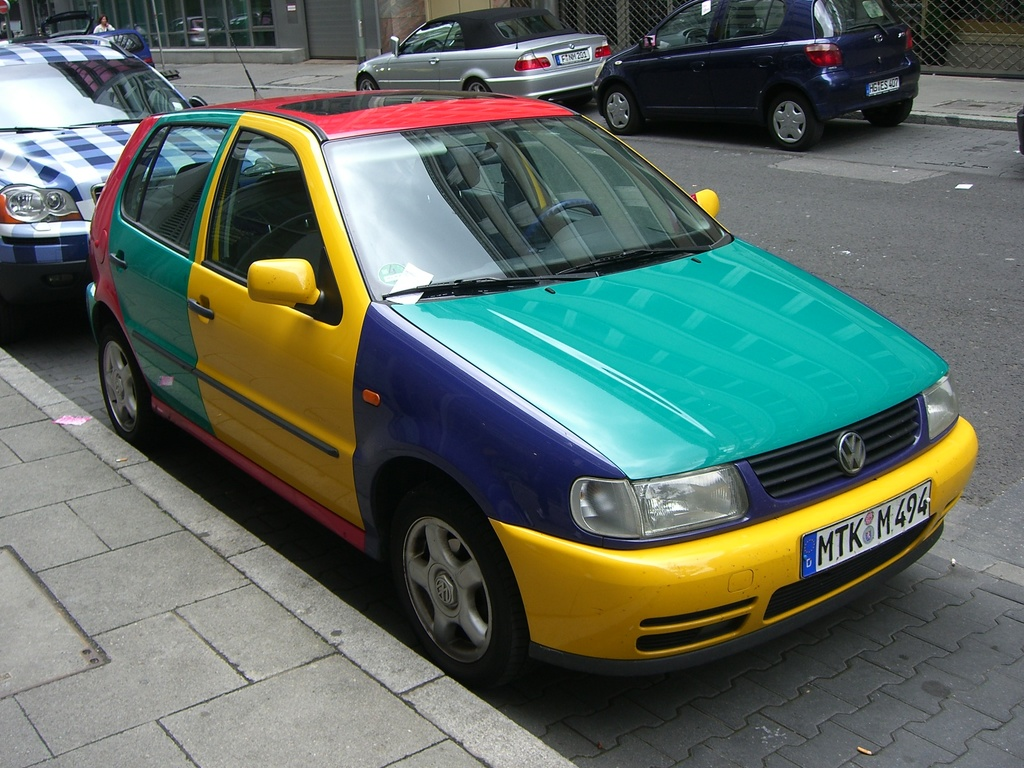Car: (0, 0, 1022, 689)
